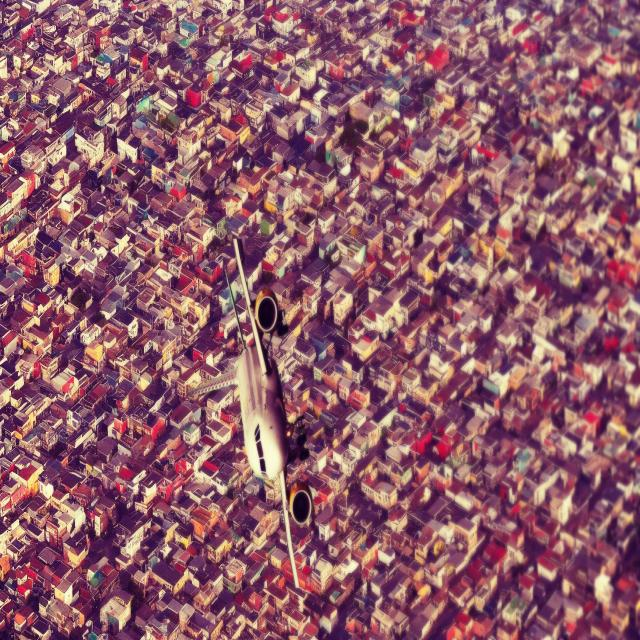airplane: (224, 232, 309, 588)
